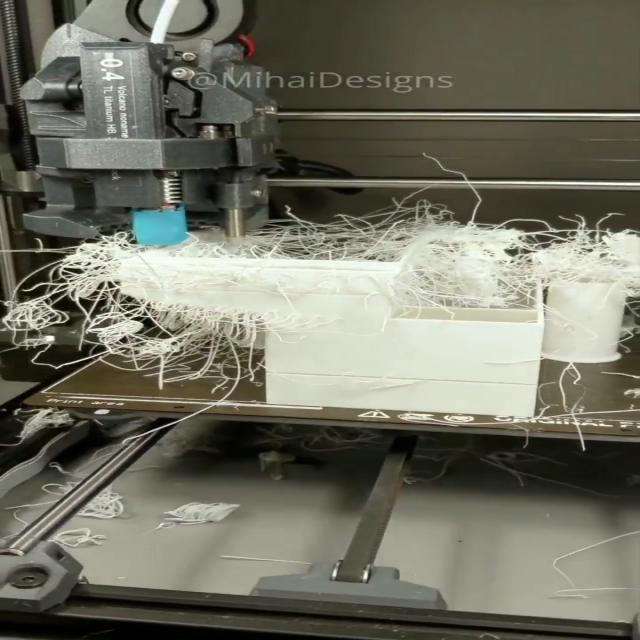spaghetti: (53, 180, 640, 417)
